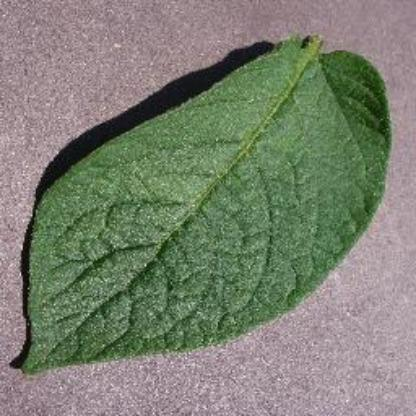Healthy-plant: (19, 35, 394, 377)
